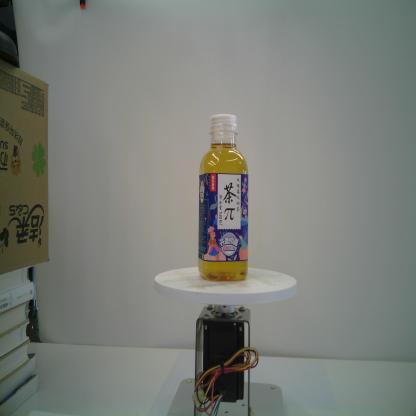Drink: (197, 112, 249, 282)
